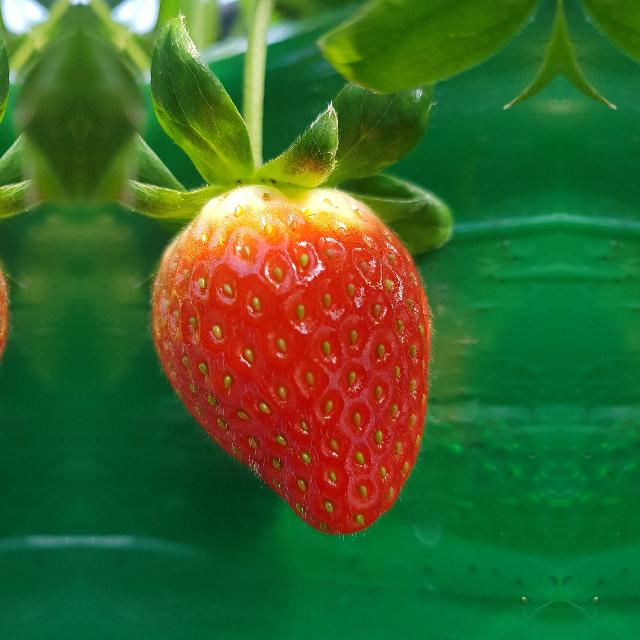Health_100: (149, 185, 433, 538)
